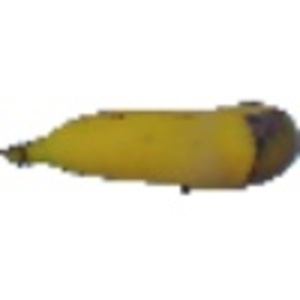banana: (3, 83, 296, 197)
